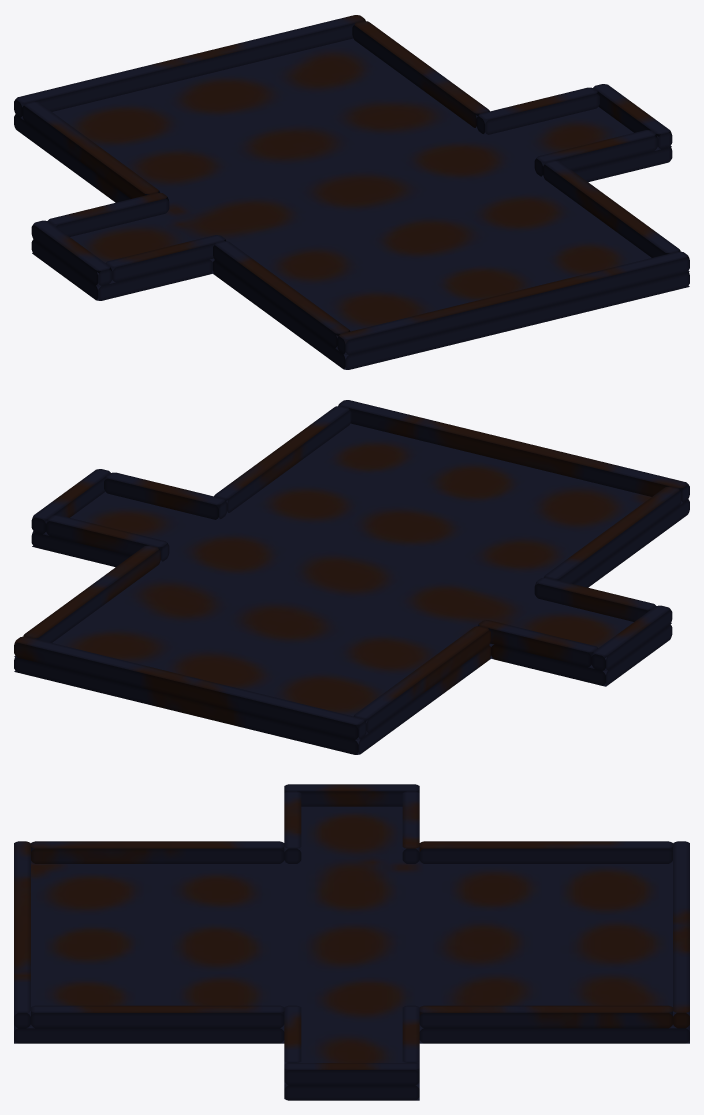
Rendered from StoveTop.fbx.
The picture shows the model from 3 angles, top to bottom: view 1: azimuth 30°, elevation 25°; view 2: azimuth 150°, elevation 25°; view 3: azimuth 270°, elevation 25°; orthographic projection.
Visible parts, largest first — view 1: mesh, mesh_3, mesh_4, mesh_10, mesh_12, mesh_11, mesh_9, mesh_5, mesh_8, mesh_6, mesh_7, mesh_1 (+1 smaller); view 2: mesh, mesh_4, mesh_3, mesh_11, mesh_9, mesh_10, mesh_12, mesh_6, mesh_7, mesh_8, mesh_5, mesh_1 (+1 smaller); view 3: mesh, mesh_12, mesh_9, mesh_10, mesh_11, mesh_3, mesh_4, mesh_2, mesh_1, mesh_7, mesh_8, mesh_5 (+1 smaller).
Boxes of the visible parts, x1,y1,x2,y2 form: mesh: (14, 38, 689, 369); mesh_3: (337, 251, 689, 354); mesh_4: (14, 15, 365, 117); mesh_10: (213, 241, 350, 348); mesh_12: (352, 21, 489, 127); mesh_11: (22, 101, 159, 198); mesh_9: (543, 160, 680, 257); mesh_5: (476, 87, 599, 134); mesh_8: (48, 192, 169, 236); mesh_6: (534, 130, 657, 176); mesh_7: (106, 235, 225, 282); mesh_1: (31, 220, 112, 285); mesh: (14, 423, 689, 754); mesh_4: (14, 636, 366, 739); mesh_3: (338, 400, 689, 502); mesh_11: (353, 626, 490, 733); mesh_9: (214, 406, 351, 512); mesh_10: (544, 486, 681, 583); mesh_12: (23, 545, 160, 642); mesh_6: (104, 472, 227, 519); mesh_7: (534, 577, 655, 621); mesh_8: (478, 620, 597, 667); mesh_5: (46, 515, 169, 561); mesh_1: (591, 605, 672, 670); mesh: (14, 806, 689, 1100); mesh_12: (419, 1005, 672, 1028); mesh_9: (31, 1005, 284, 1028); mesh_10: (31, 841, 284, 863); mesh_11: (419, 841, 672, 863); mesh_3: (14, 841, 30, 1028); mesh_4: (673, 841, 689, 1028); mesh_2: (284, 1063, 419, 1085); mesh_1: (284, 784, 419, 806); mesh_7: (284, 791, 301, 863); mesh_8: (402, 791, 419, 863); mesh_5: (402, 1005, 419, 1071).
Size of the model in its own units: 250 by 12.5 by 250.
Materials: 1 (1 with a texture image).
